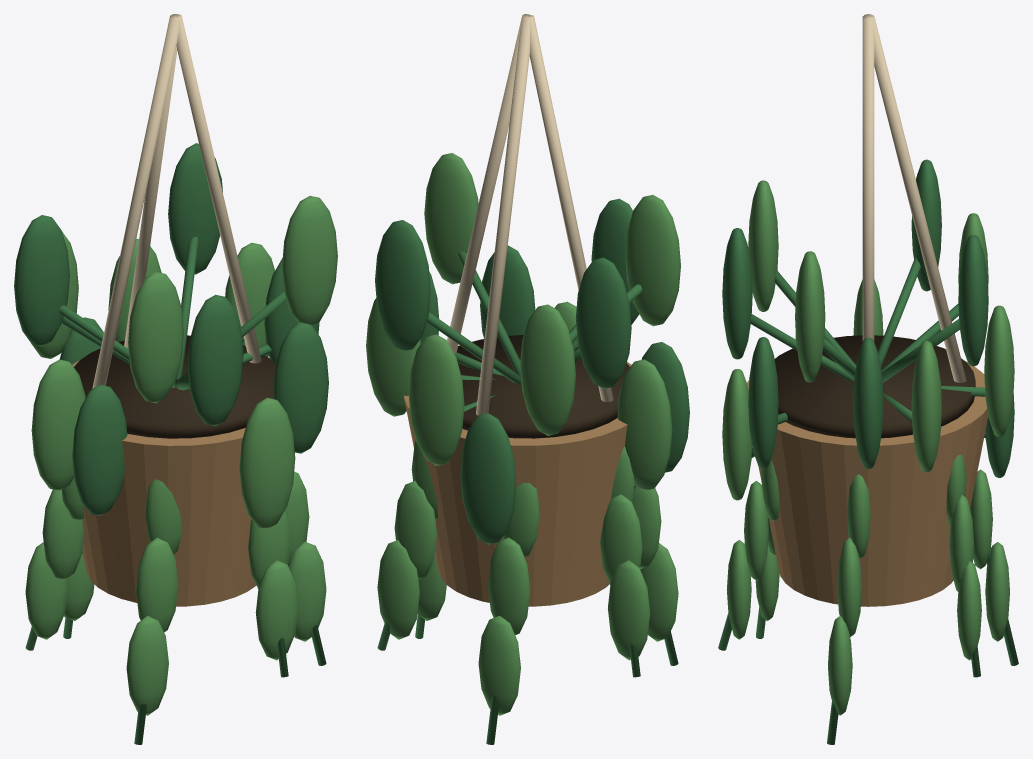
File: hanging-planter.glb
The picture shows the model from 3 angles, left to right: view 1: azimuth 30°, elevation 25°; view 2: azimuth 150°, elevation 25°; view 3: azimuth 270°, elevation 25°; orthographic projection.
Visible parts, largest first — view 1: Cone; view 2: Cone; view 3: Cone.
Part boxes in pixels (<box>): Cone: <box>14,14,337,744</box>; Cone: <box>366,14,689,744</box>; Cone: <box>718,14,1018,744</box>.
Bounding box in the file's own units: 0.4765 × 1.06 × 0.4353.
